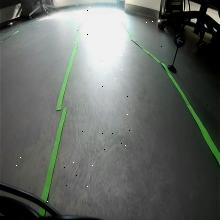left: (174, 32, 186, 49)
